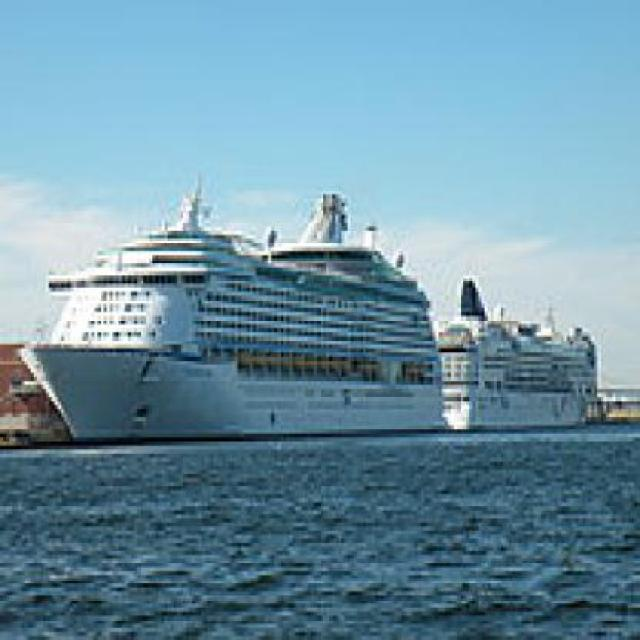cruise: (19, 179, 461, 455), (431, 269, 605, 438)
